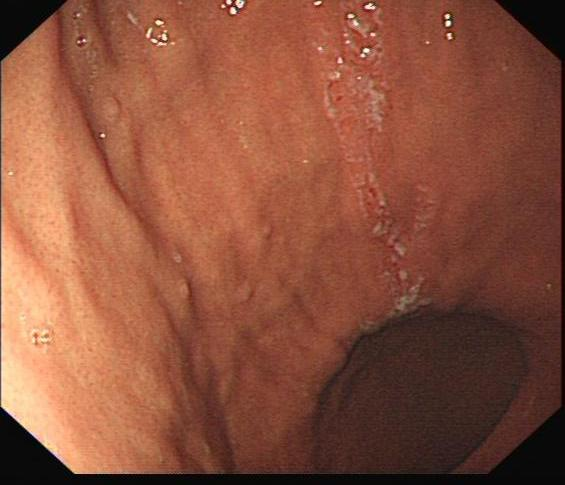Polyp: (157, 264, 208, 318)
